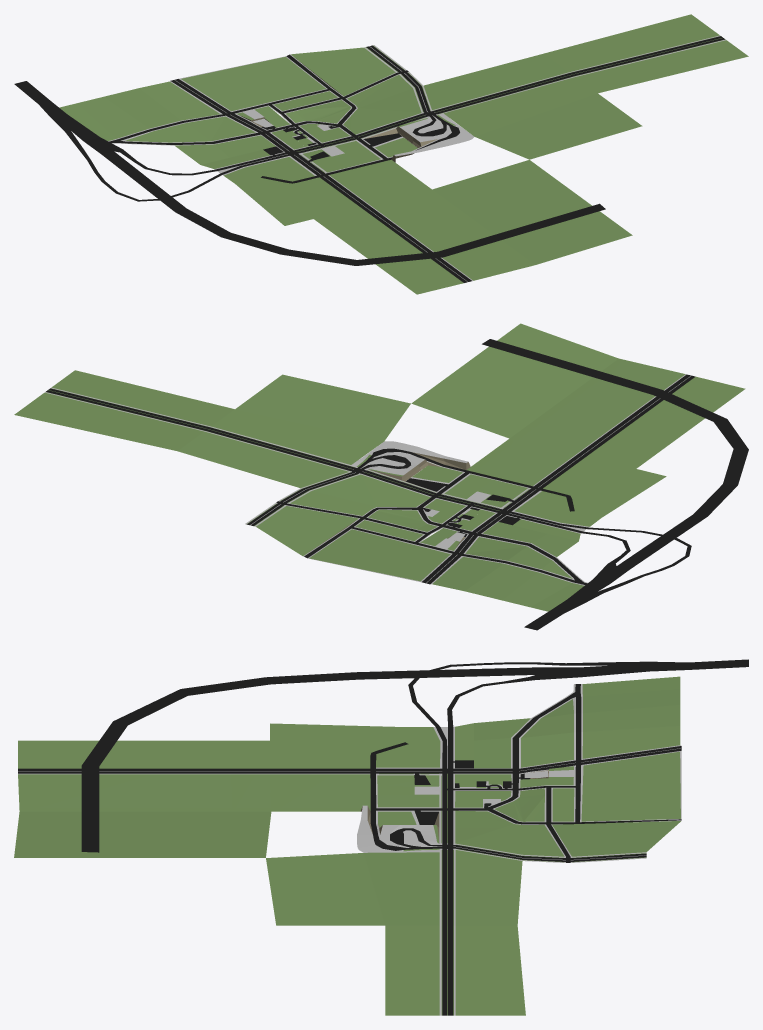
Rendered from city_ground.glb.
3 views of the same model, one above another, from view 1: azimuth 30°, elevation 25°; view 2: azimuth 150°, elevation 25°; view 3: azimuth 270°, elevation 25° (orthographic). The views are drawn at different scales.
Visible parts, largest first — view 1: road; view 2: road; view 3: road.
Part boxes in pixels (bbox=[...]): road: bbox=[14, 14, 748, 294]; road: bbox=[14, 323, 748, 630]; road: bbox=[14, 659, 748, 1015].
Size of the model in its own units: 1445 by 38.67 by 1244.
